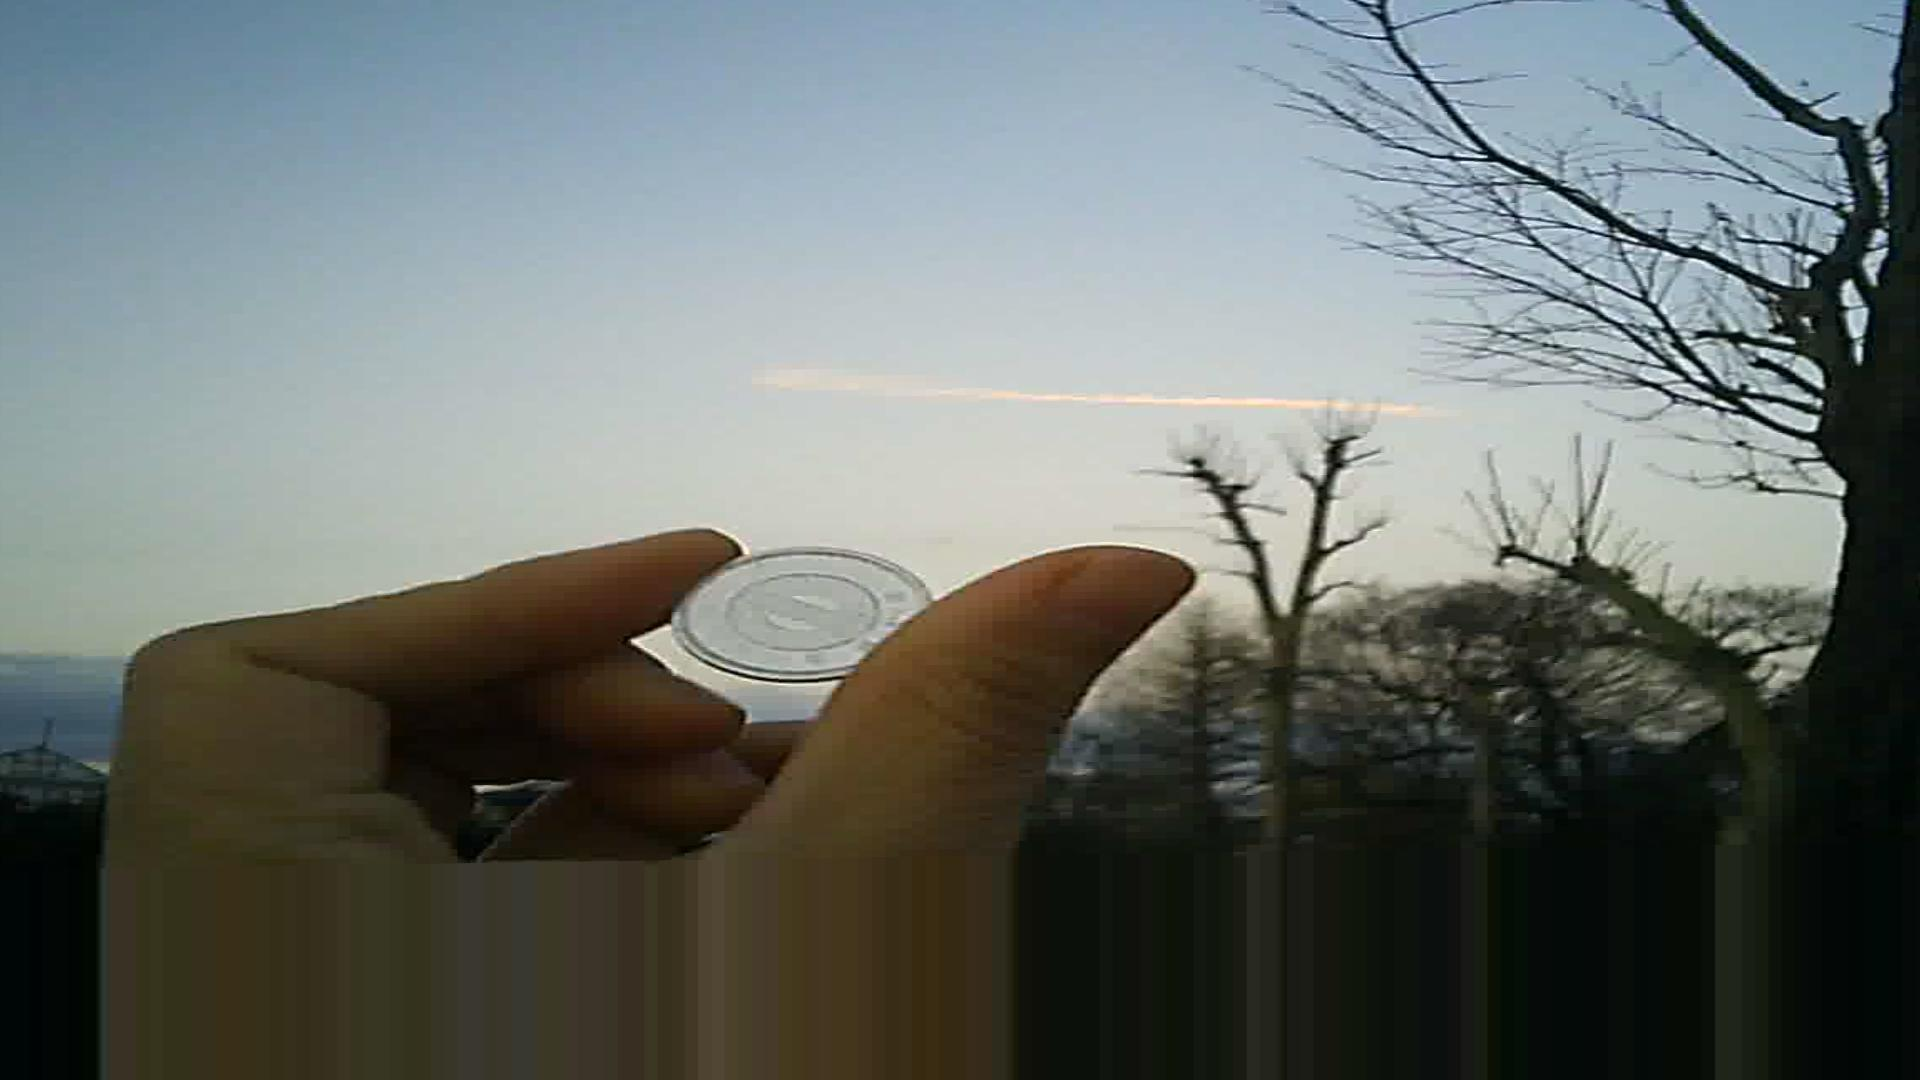1 Yen: (658, 533, 951, 690)
